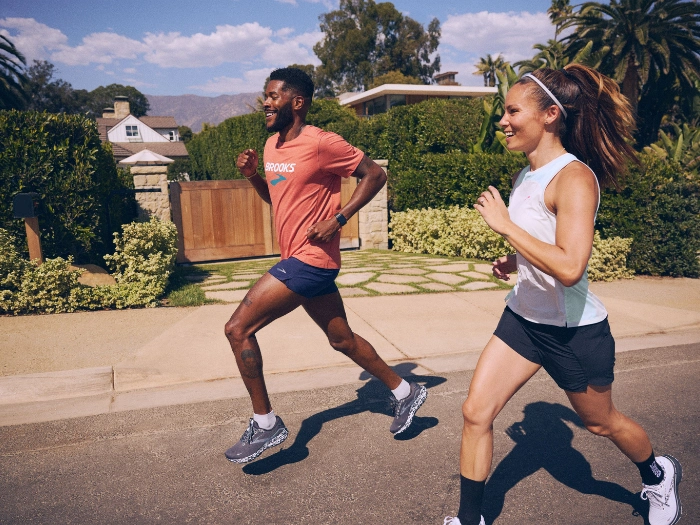person: (439, 62, 686, 525), (216, 62, 431, 466)
